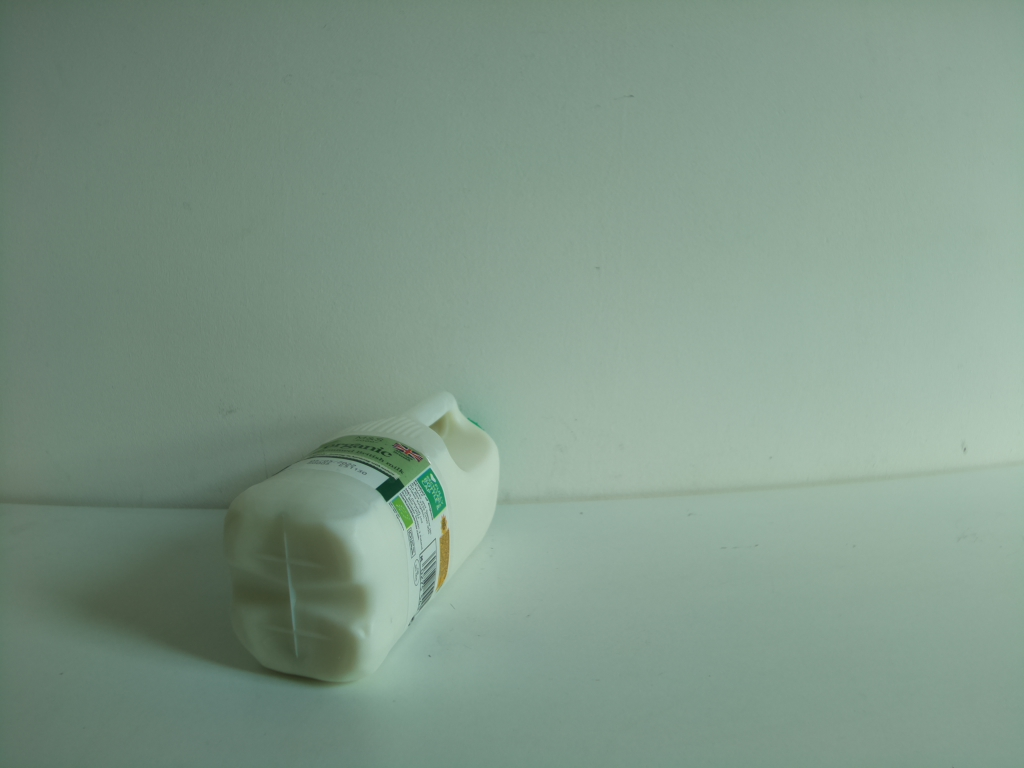milk: (217, 384, 508, 696)
